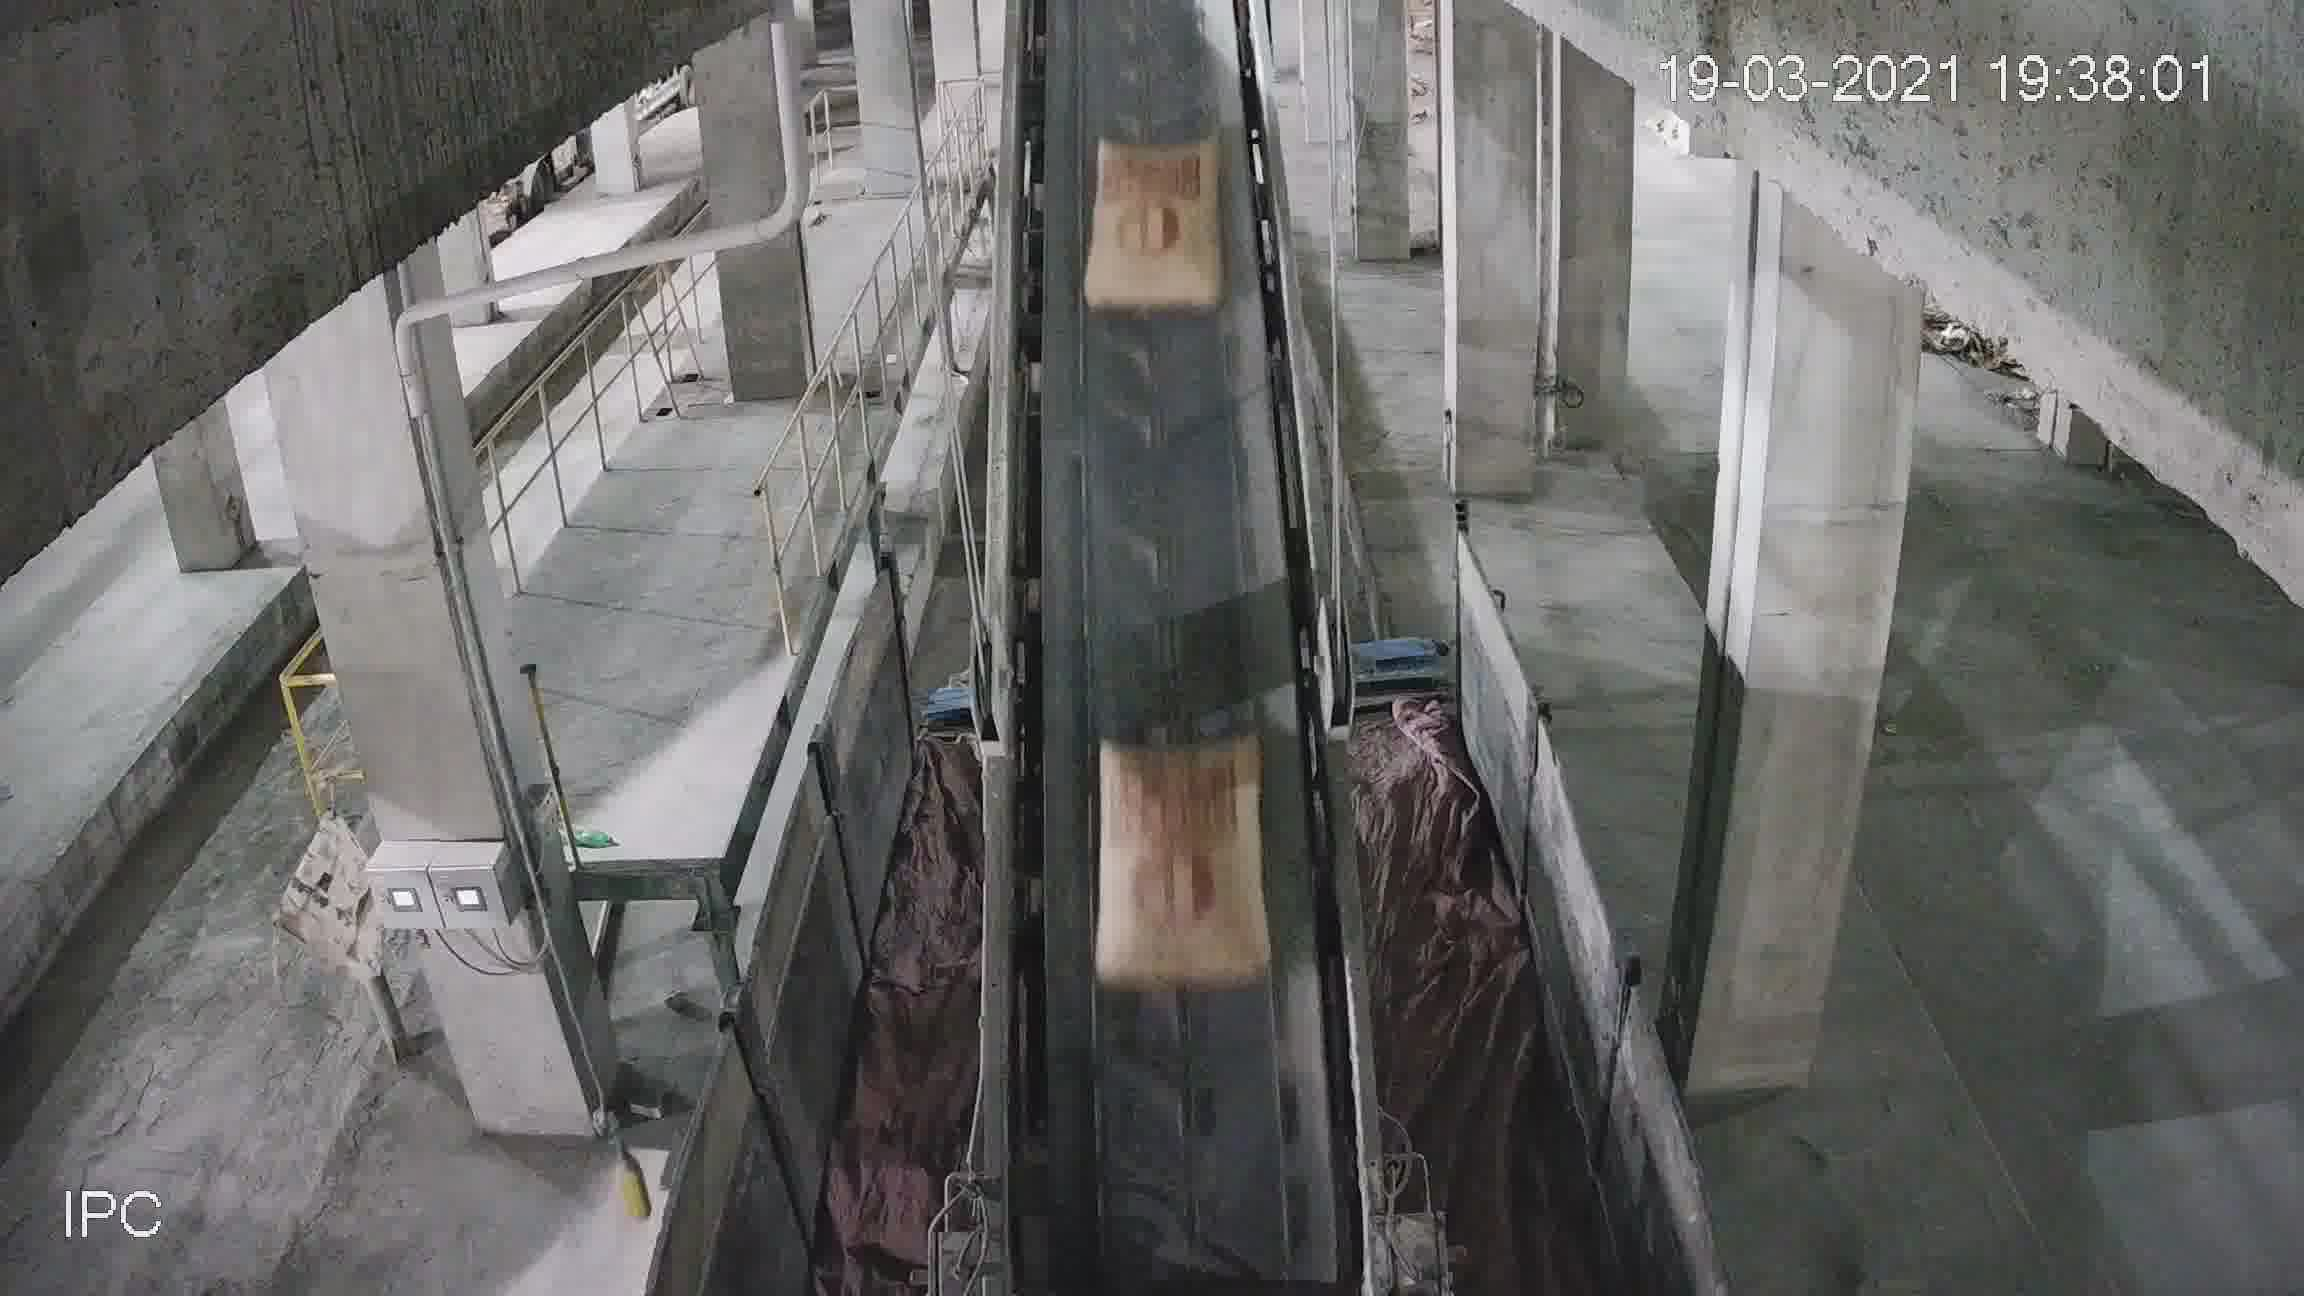bag: (1100, 748, 1269, 994), (1090, 149, 1223, 309)
belt: (991, 95, 1353, 1138)
